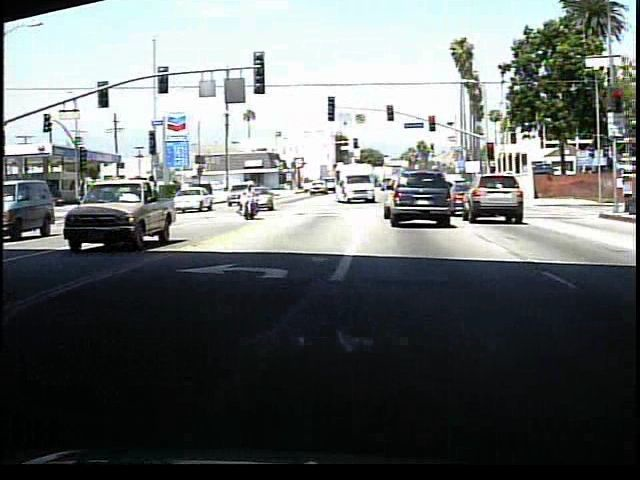person: (238, 183, 259, 222)
